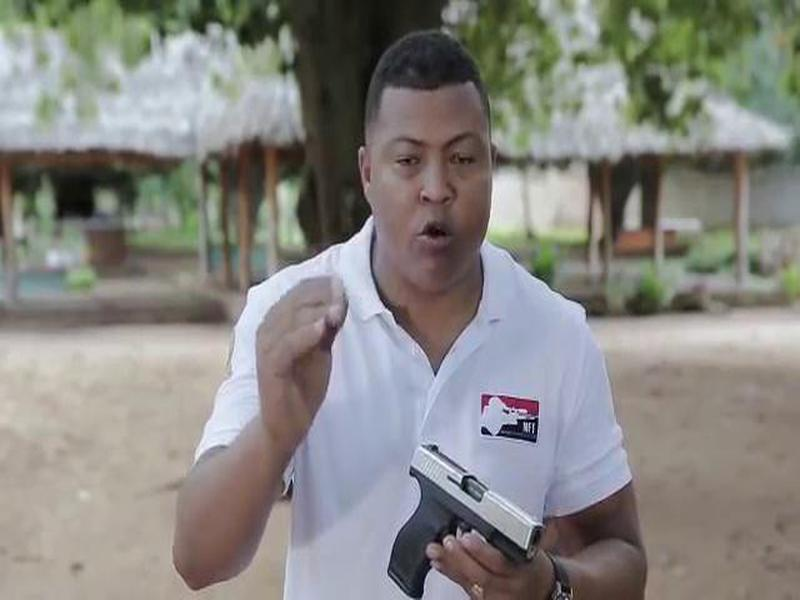Pistola: (378, 438, 544, 598)
